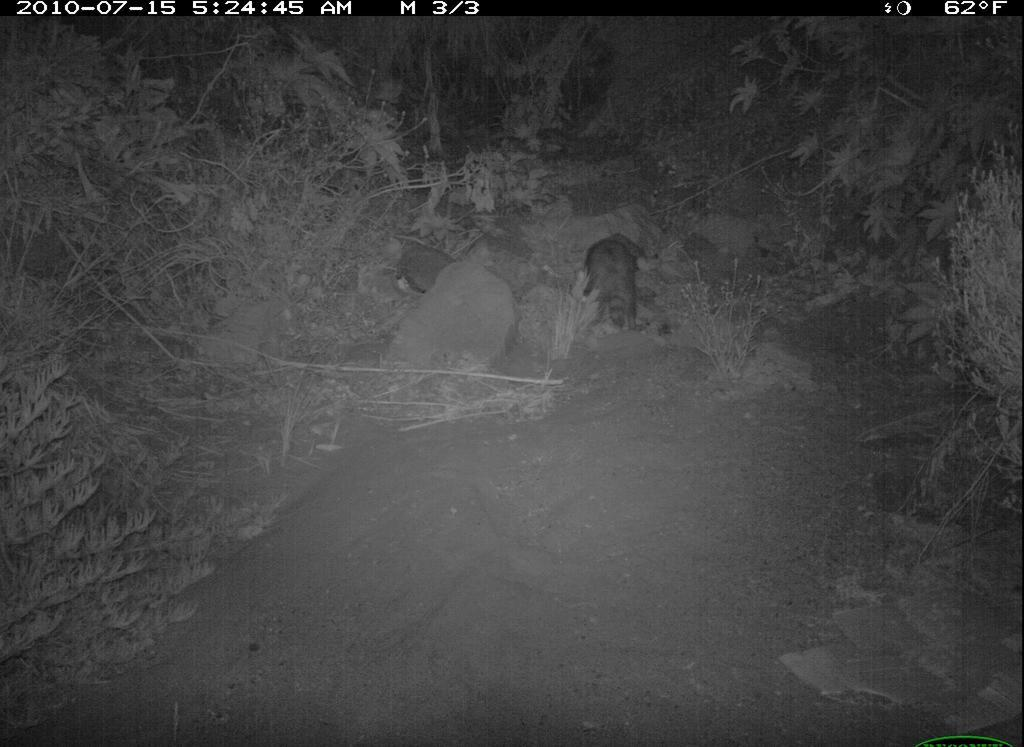raccoon: (569, 214, 662, 351)
